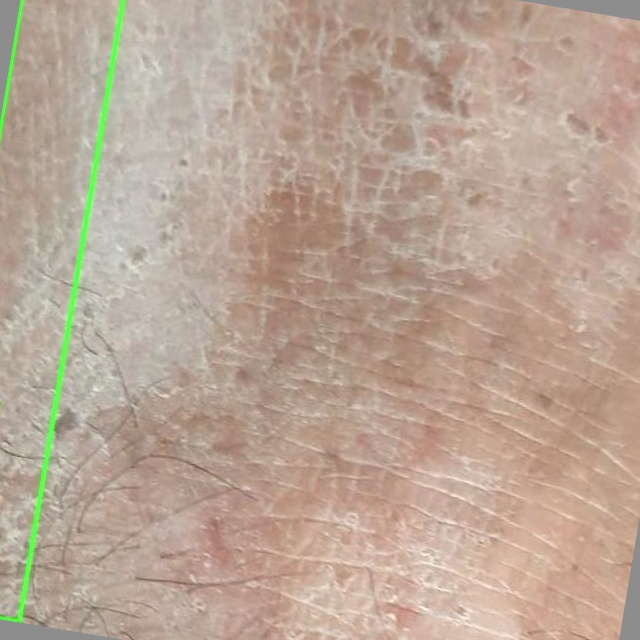Tinea Corporis: (0, 0, 123, 621)
